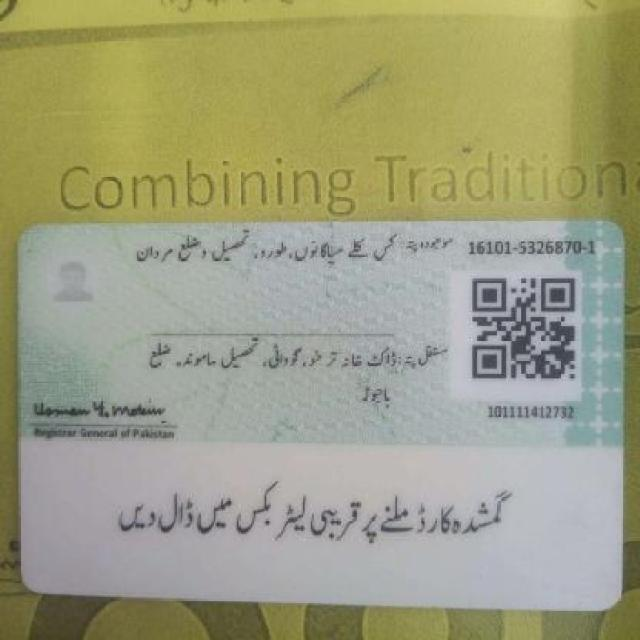Back: (15, 215, 631, 612)
